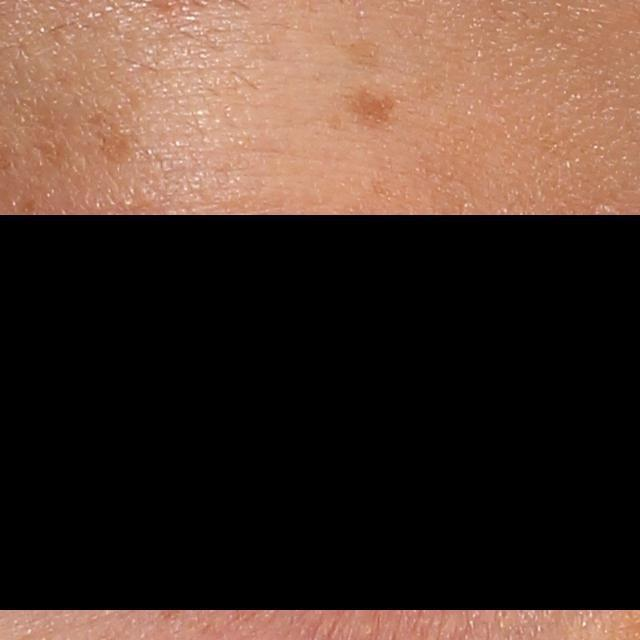melasma: (86, 105, 137, 165), (342, 89, 404, 132)
